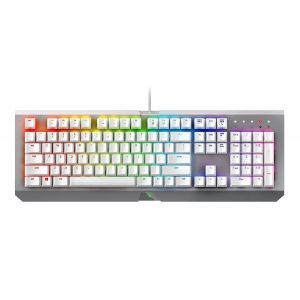keyboard: (9, 98, 290, 207)
